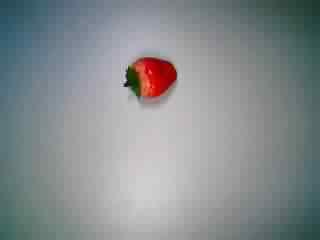strawberry: (113, 49, 179, 111)
